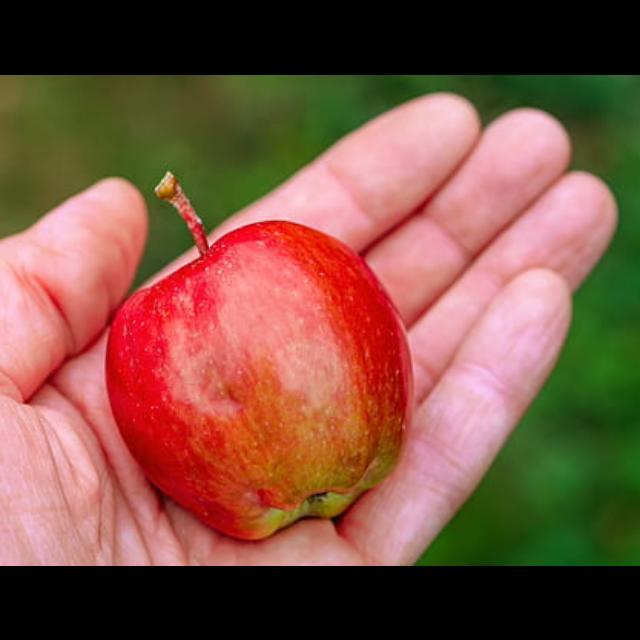Apel Segar: (102, 213, 444, 544)
